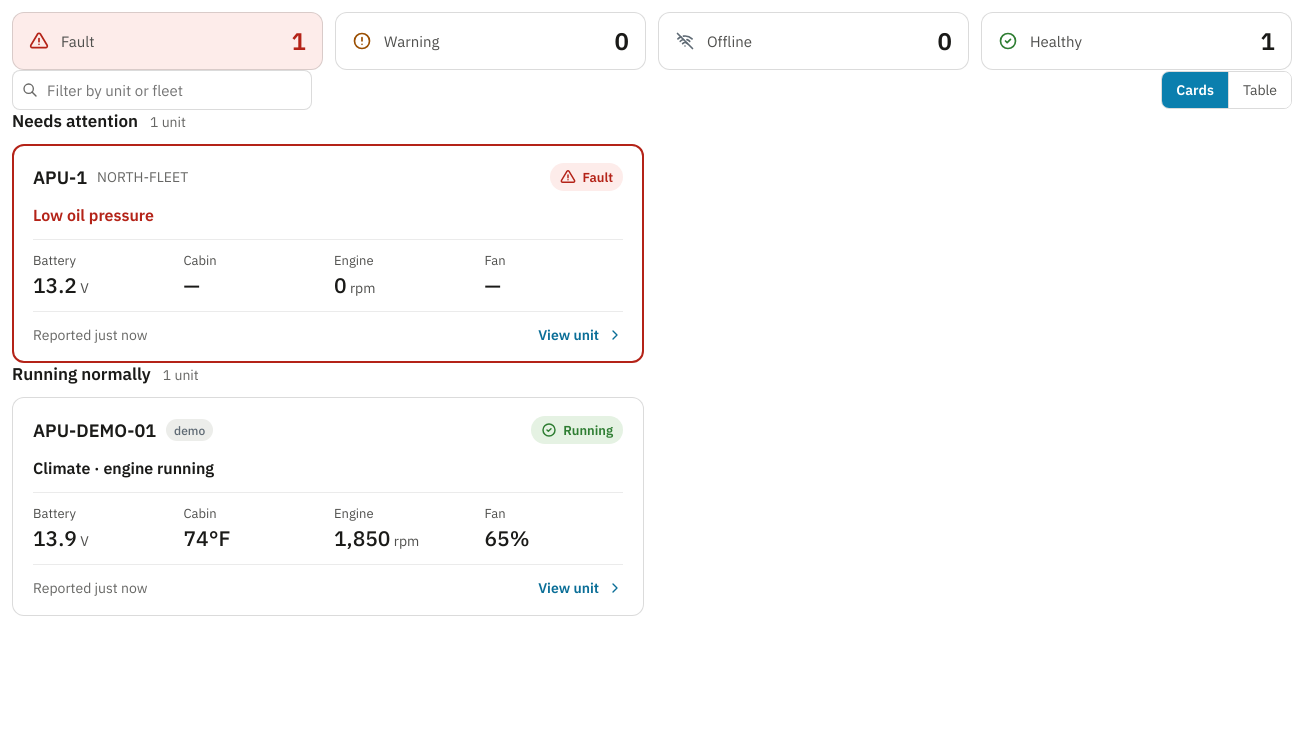
DashboardPage table view › defaults to cards and switches to a table of units
The image size is (1304, 732).
Expected: the table "Units" is not shown
Click the button "Table".
click(1259, 90)  # box [1228,72,1291,108]
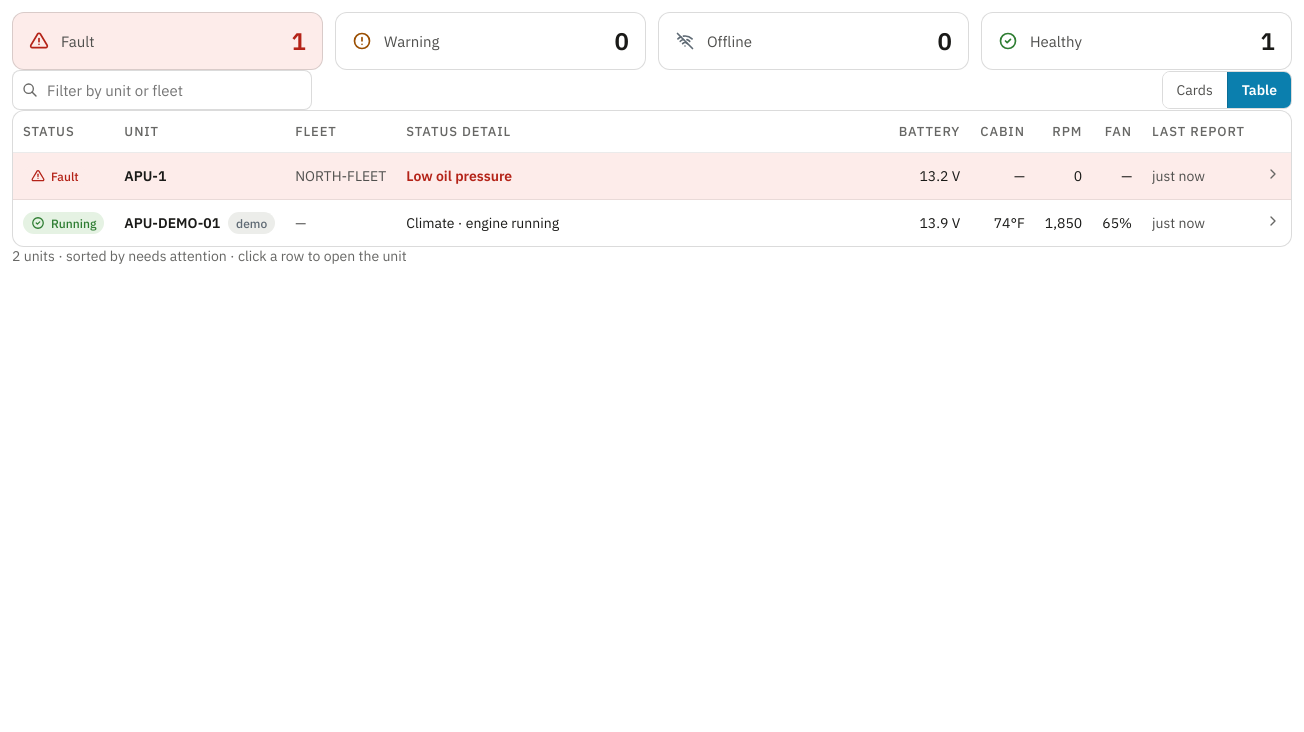
Now the table named "Units" is shown, box [13,111,1291,246]
